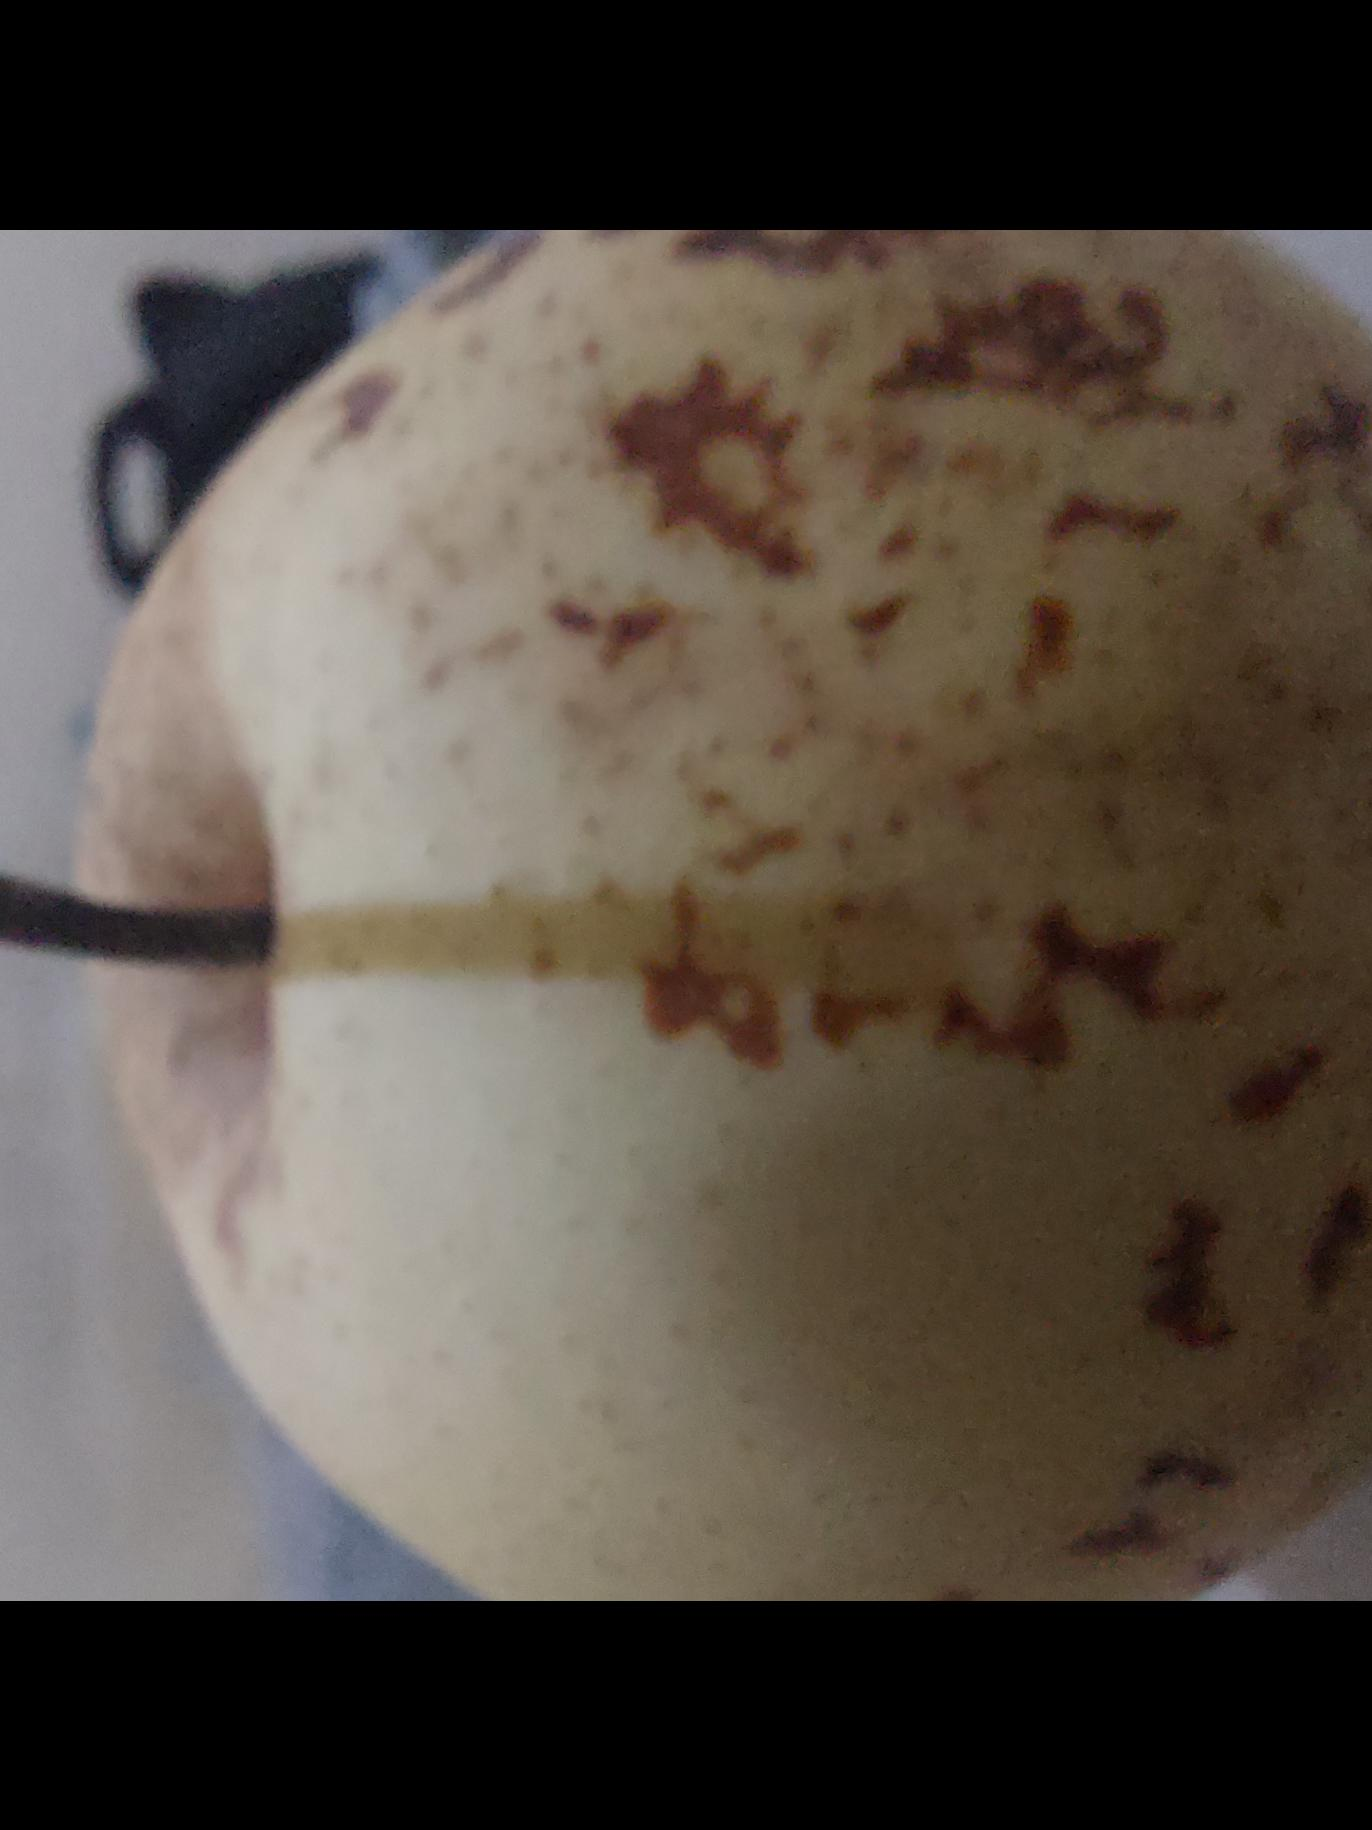Bad Pear: (65, 229, 1372, 1601)
